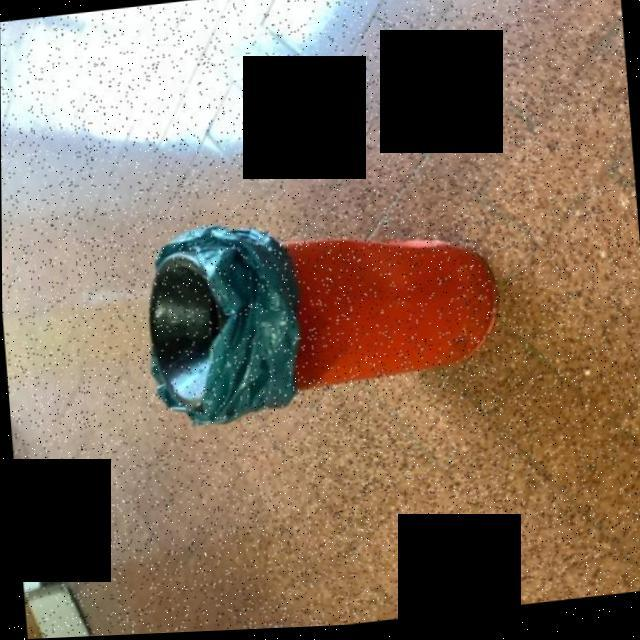bin: (124, 184, 527, 441)
